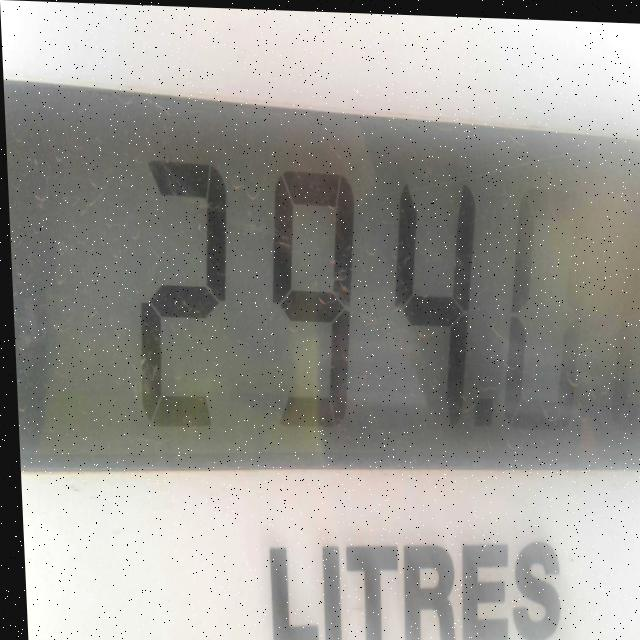.: (475, 391, 493, 417)
0: (492, 184, 591, 434)
1: (598, 184, 640, 411)
2: (136, 148, 233, 423)
4: (387, 181, 473, 417)
9: (267, 166, 358, 428)
